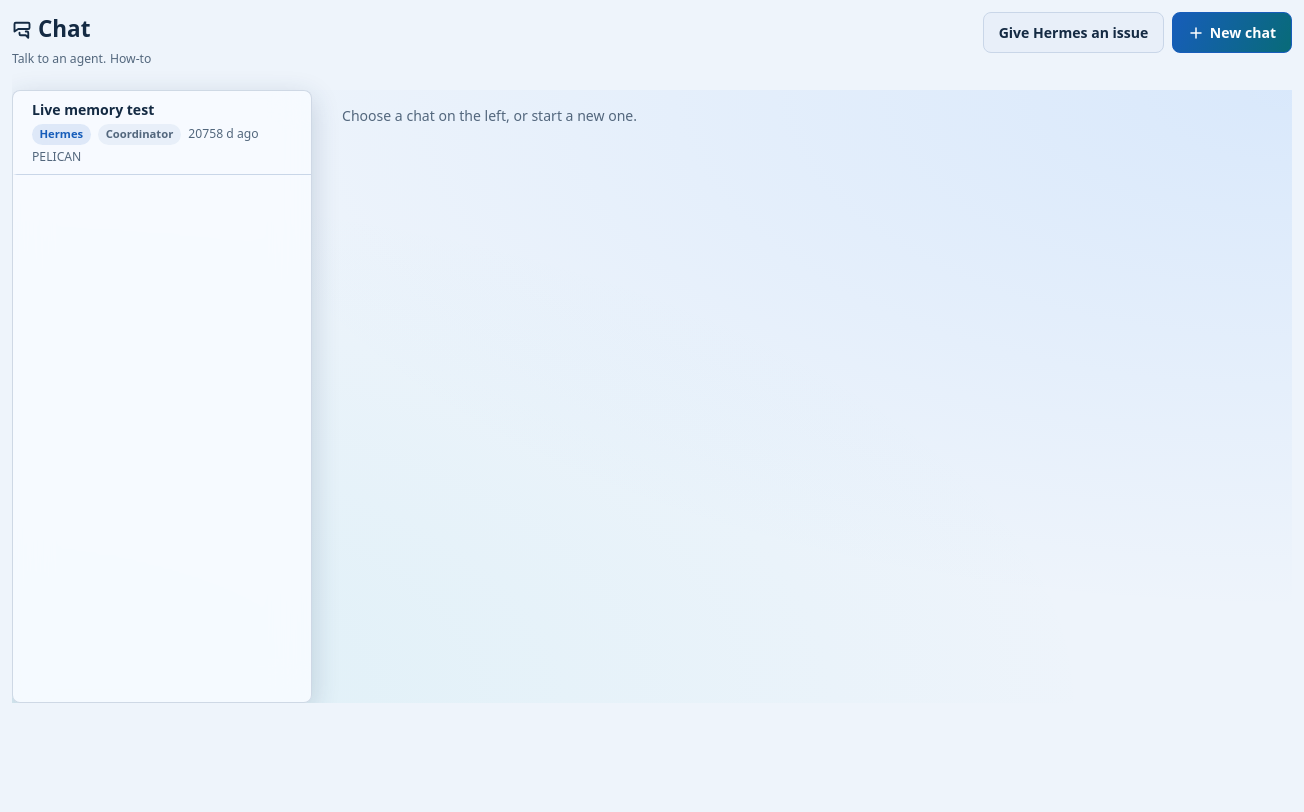
Test: Chat view › opens a thread: messages, model/tokens meta, and "not reported" for nulls
Click the button "Live memory test Hermes Coordinator 20758 d ago PELICAN" at x=162, y=133, box left=13, top=91, right=311, bottom=175
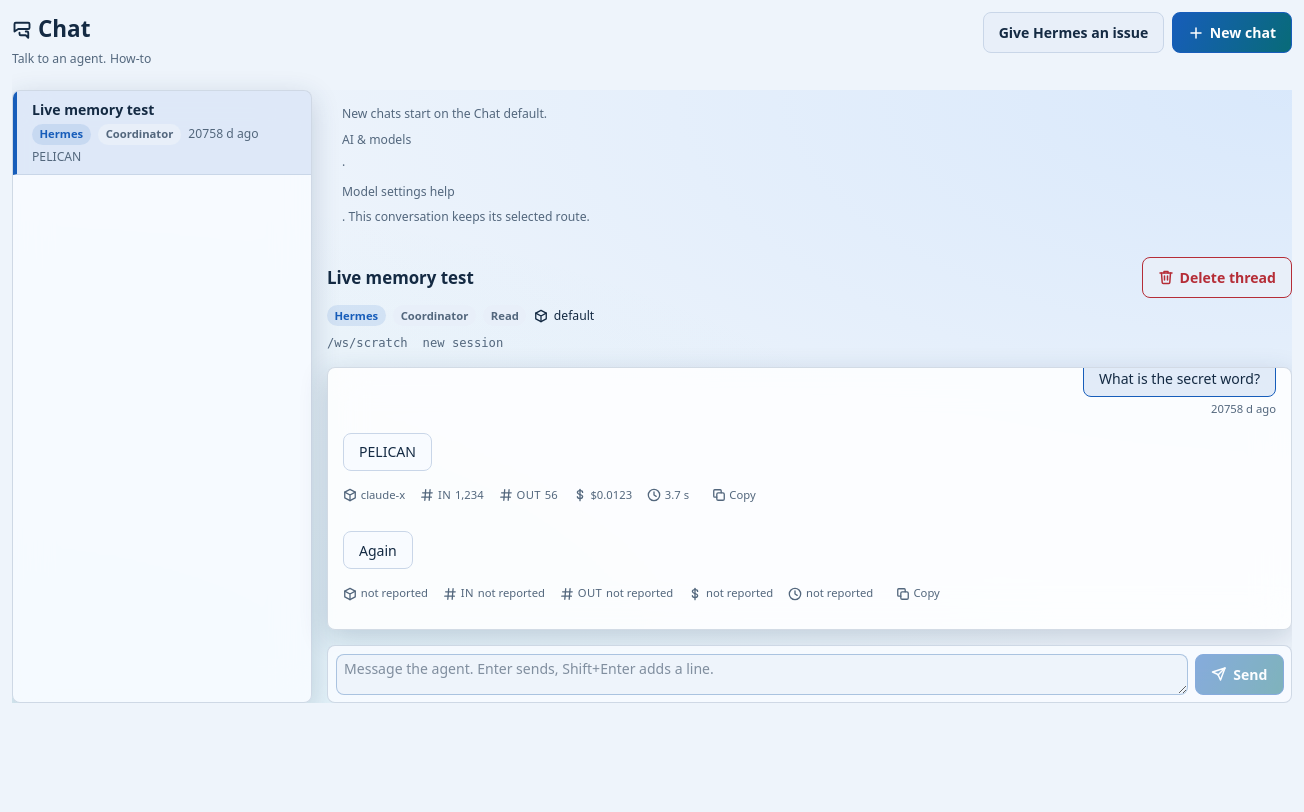
Result: the heading "Live memory test" is shown at left=327, top=265, right=474, bottom=290
Result: the text with test id "session-id" reads "new session" at left=423, top=336, right=503, bottom=350
Result: the text with test id "working-dir" reads "/ws/scratch" at left=327, top=336, right=408, bottom=350
